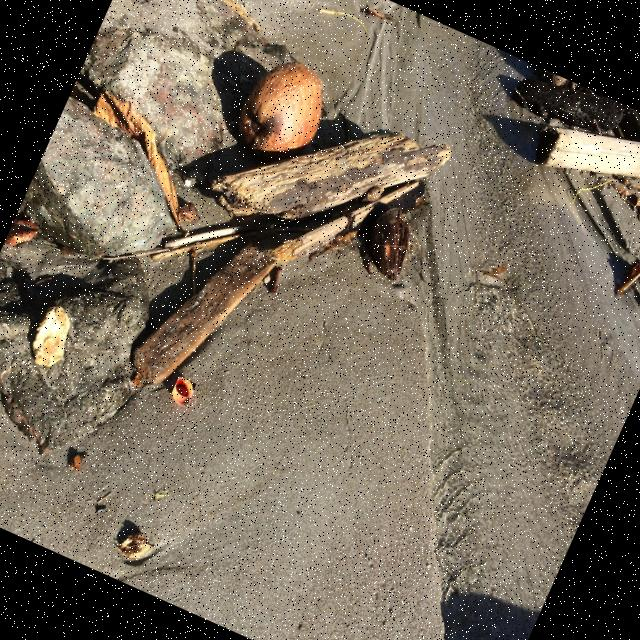Plastic bottle cap: (173, 380, 193, 404)
